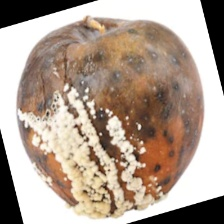apple: (31, 20, 222, 197)
